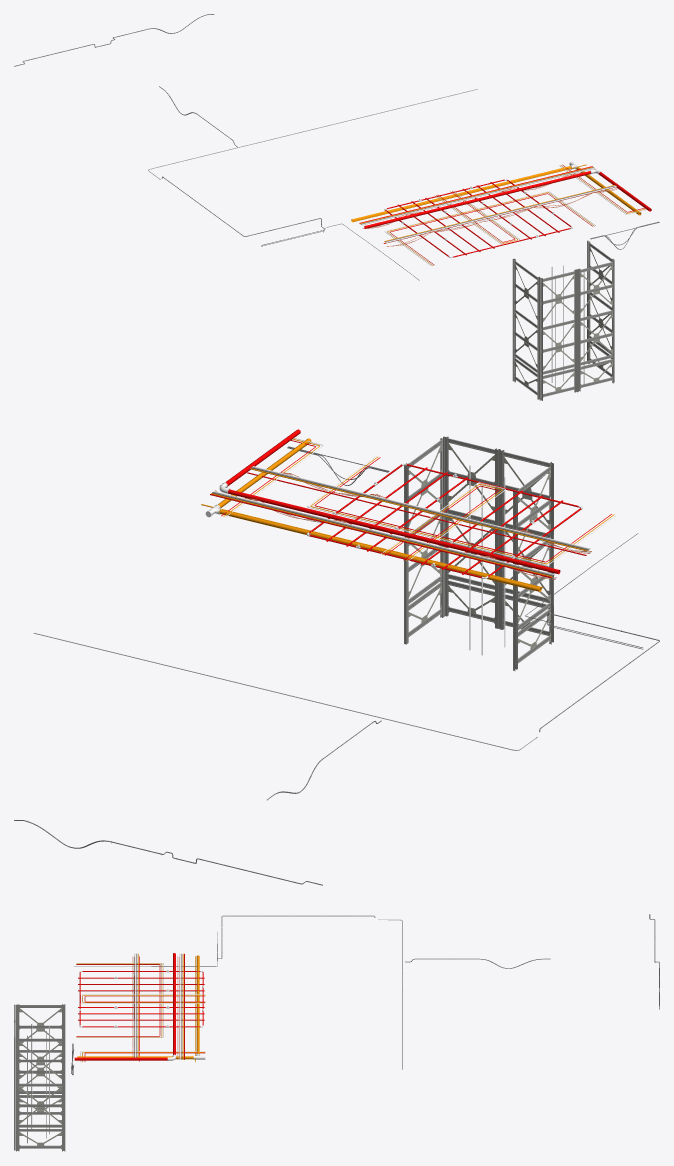
The picture shows the model from 3 angles, top to bottom: view 1: azimuth 30°, elevation 25°; view 2: azimuth 150°, elevation 25°; view 3: azimuth 270°, elevation 25°; orthographic projection. The views are drawn at different scales.
Visible parts, largest first — view 1: SM_H_Building_FutureTech_HStairs_05C; view 2: SM_H_Building_FutureTech_HStairs_05C; view 3: SM_H_Building_FutureTech_HStairs_05C.
Part boxes in pixels (bbox=[...]): SM_H_Building_FutureTech_HStairs_05C: bbox=[14, 14, 659, 400]; SM_H_Building_FutureTech_HStairs_05C: bbox=[14, 429, 659, 885]; SM_H_Building_FutureTech_HStairs_05C: bbox=[14, 914, 659, 1151].
Size of the model in its own units: 1330 by 740 by 290.
